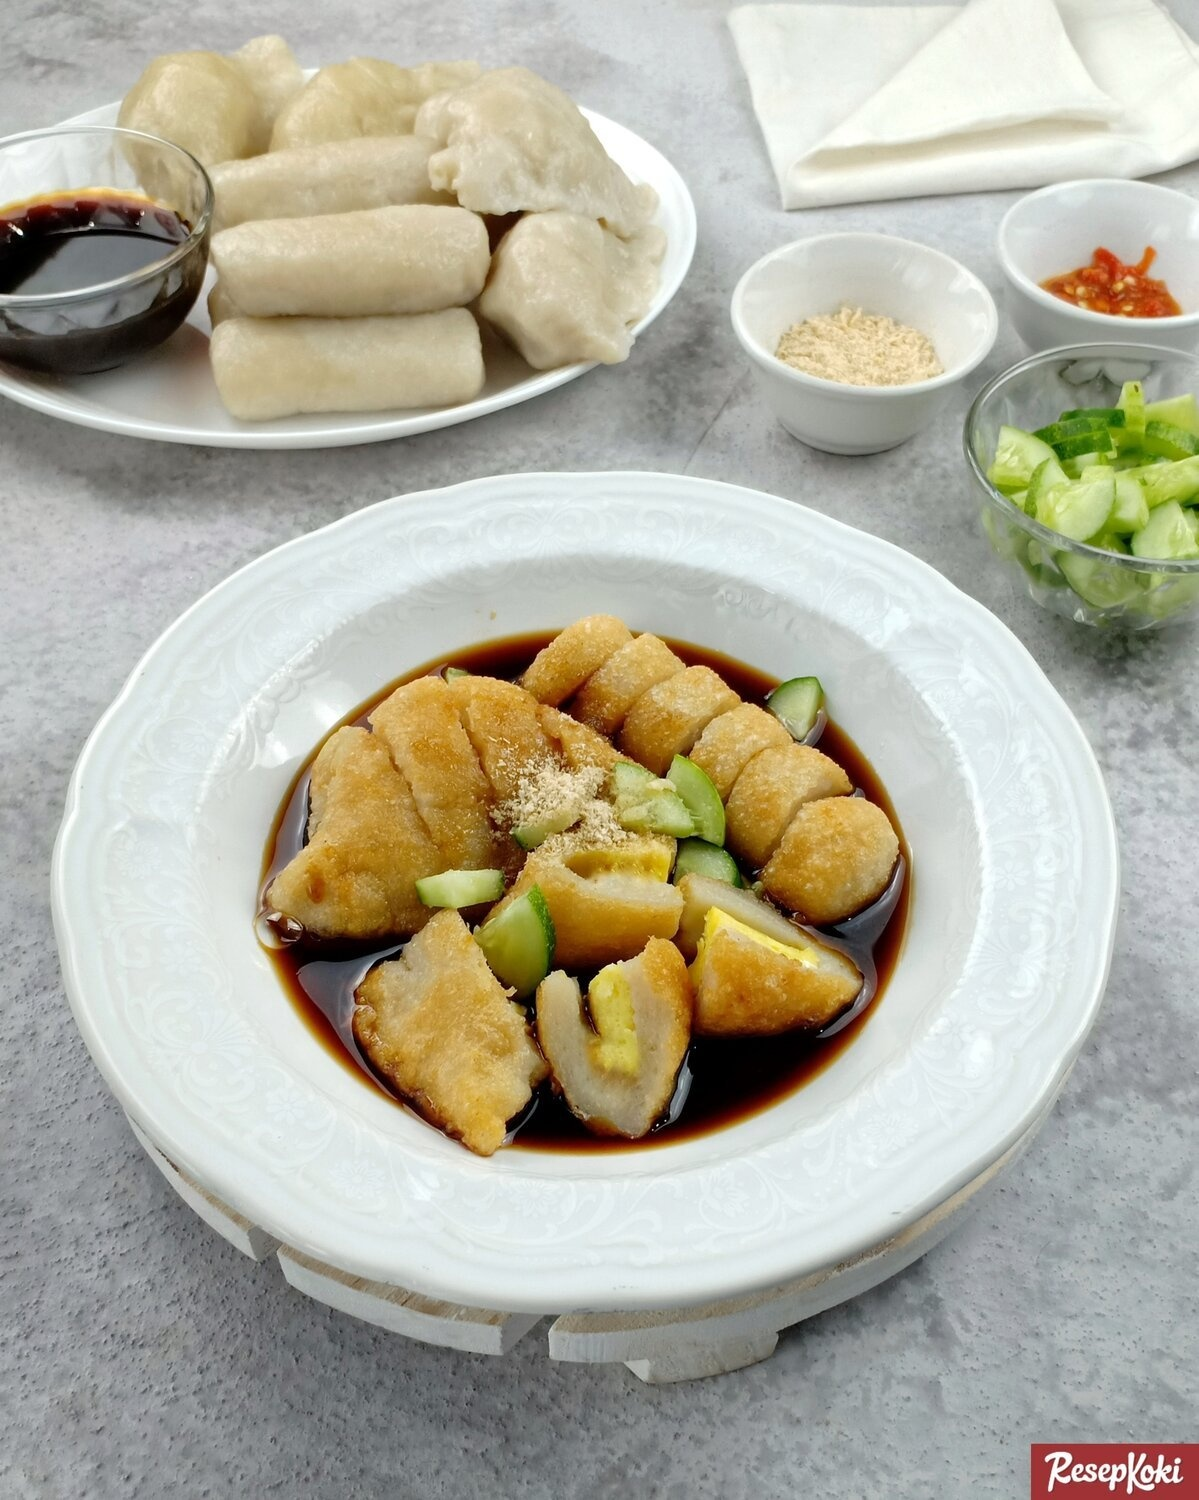pempek: (236, 580, 937, 1143)
